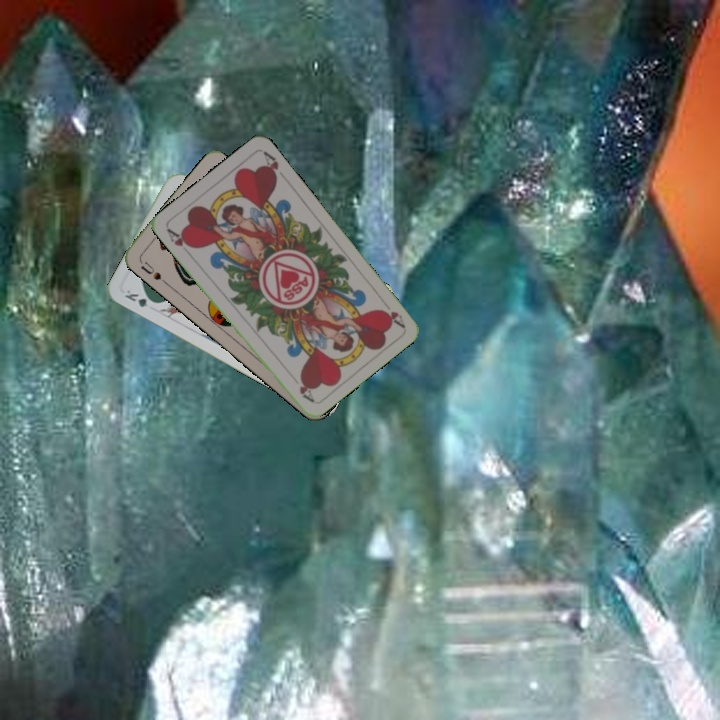GK: (120, 286, 160, 310)
HA: (163, 224, 196, 258), (376, 305, 407, 330)
SU: (136, 256, 170, 287)
